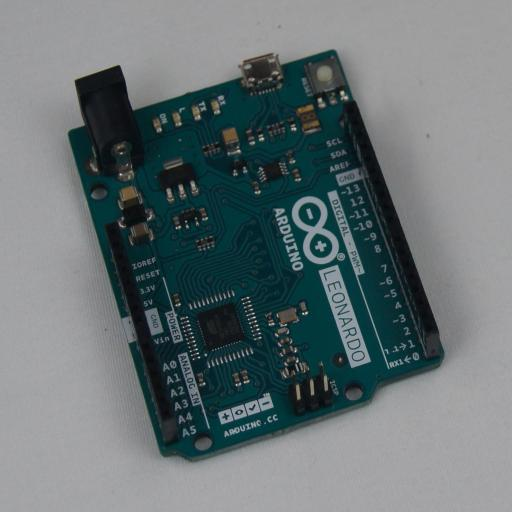Arduino Leonardo: (68, 50, 444, 462)
